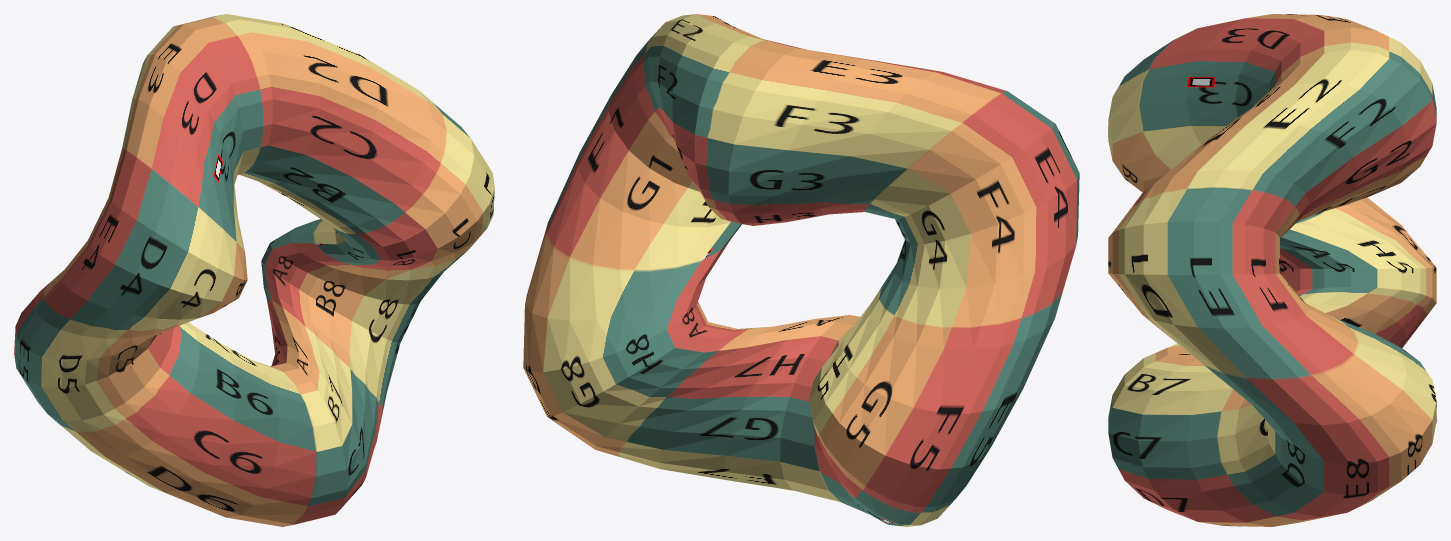
The picture shows the model from 3 angles, left to right: view 1: azimuth 30°, elevation 25°; view 2: azimuth 150°, elevation 25°; view 3: azimuth 270°, elevation 25°; orthographic projection. The views are drawn at different scales.
Parts seen in each view (by area): view 1: Node-Mesh; view 2: Node-Mesh; view 3: Node-Mesh.
Part boxes in pixels (x1,y1,x2,y2): Node-Mesh: (14,14,494,526); Node-Mesh: (523,14,1079,526); Node-Mesh: (1108,14,1436,526).
Size of the model in its own units: 3 by 2.98 by 1.91.
Materials: 1 (1 with a texture image).
